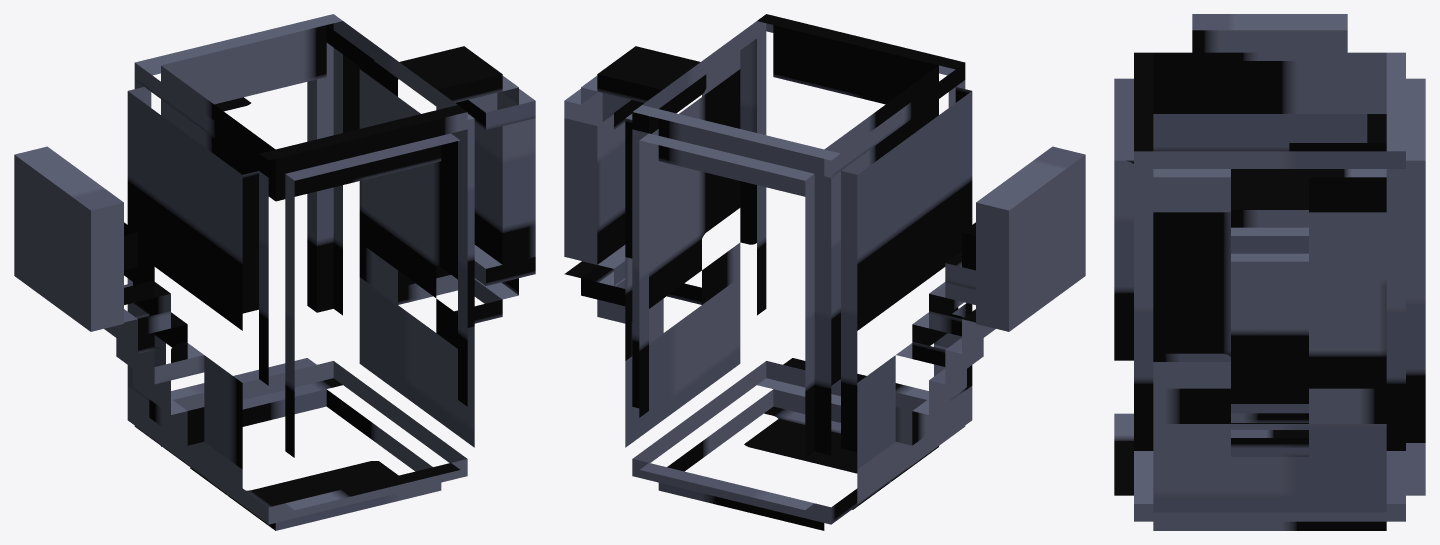
The model's file is regadera.fbx.
3 views of the same model, side by side, from view 1: azimuth 30°, elevation 25°; view 2: azimuth 150°, elevation 25°; view 3: azimuth 270°, elevation 25° (orthographic).
Visible parts, largest first — view 1: Box; view 2: Box; view 3: Box.
Boxes of the visible parts, box(x1,y1,x2,y2) form: Box: box(14, 14, 535, 530); Box: box(564, 14, 1085, 530); Box: box(1114, 14, 1425, 530).
Size of the model in its own units: 28 by 22 by 16.
